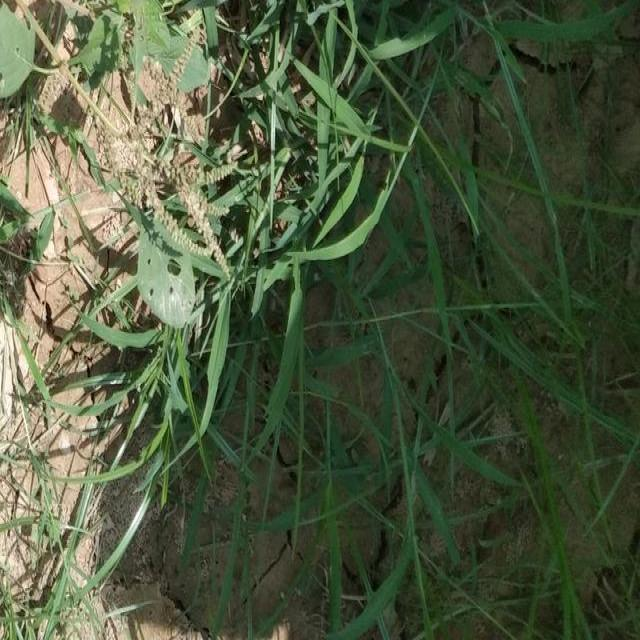weed: (189, 28, 601, 562)
